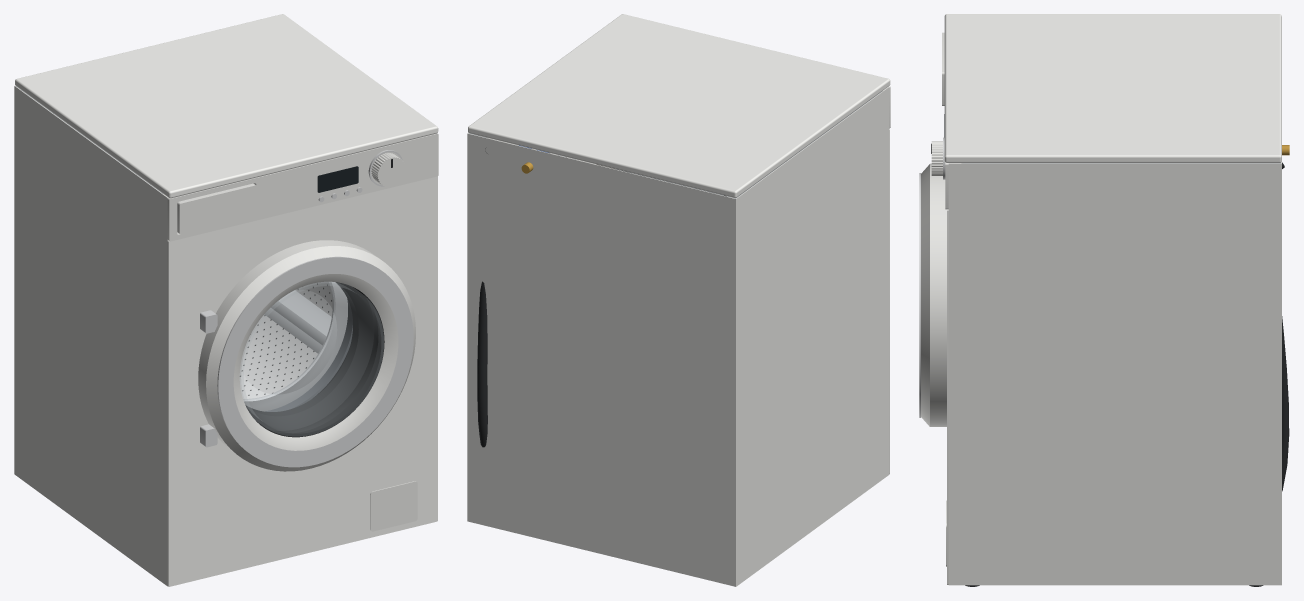
The model's file is washing-machine.glb.
3 renders of one model, left to right at view 1: azimuth 30°, elevation 25°; view 2: azimuth 150°, elevation 25°; view 3: azimuth 270°, elevation 25°, orthographic. The views are drawn at different scales.
Parts seen in each view (by area): view 1: side_left, front_panel, top_lid, door, drum, fascia, bellows, drawer, tub_front; view 2: back_panel, side_left, top_lid, hoses; view 3: side_right, top_lid, door, hoses, front_panel, fascia.
Part boxes in pixels (left/top/right/bottom): side_left: left=14, top=85, right=167, bottom=586; front_panel: left=167, top=176, right=437, bottom=586; top_lid: left=15, top=14, right=438, bottom=198; door: left=198, top=240, right=415, bottom=471; drum: left=239, top=281, right=347, bottom=411; fascia: left=163, top=133, right=438, bottom=241; bellows: left=245, top=282, right=384, bottom=437; drawer: left=177, top=183, right=256, bottom=234; tub_front: left=265, top=299, right=352, bottom=411; back_panel: left=468, top=133, right=735, bottom=586; side_left: left=735, top=87, right=889, bottom=586; top_lid: left=468, top=14, right=890, bottom=197; hoses: left=477, top=148, right=487, bottom=447; side_right: left=948, top=163, right=1281, bottom=585; top_lid: left=944, top=14, right=1281, bottom=162; door: left=919, top=163, right=946, bottom=426; hoses: left=1282, top=162, right=1289, bottom=491; front_panel: left=946, top=209, right=948, bottom=584; fascia: left=931, top=114, right=960, bottom=209.
Bounding box in the file's own units: 0.595 × 0.85 × 0.653.
24 materials, 1 textured.
